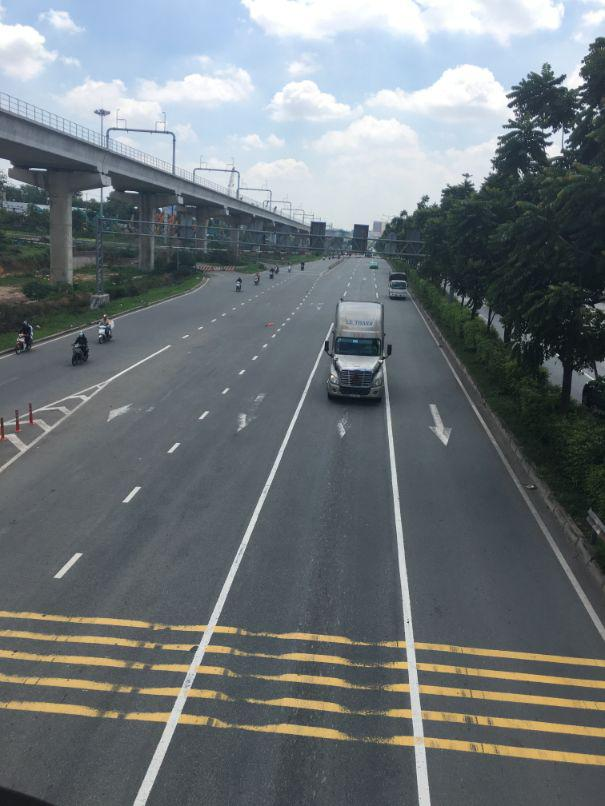car: (388, 276, 408, 302)
motorbike: (73, 335, 91, 364), (97, 322, 112, 344)
truck: (326, 300, 390, 403)
